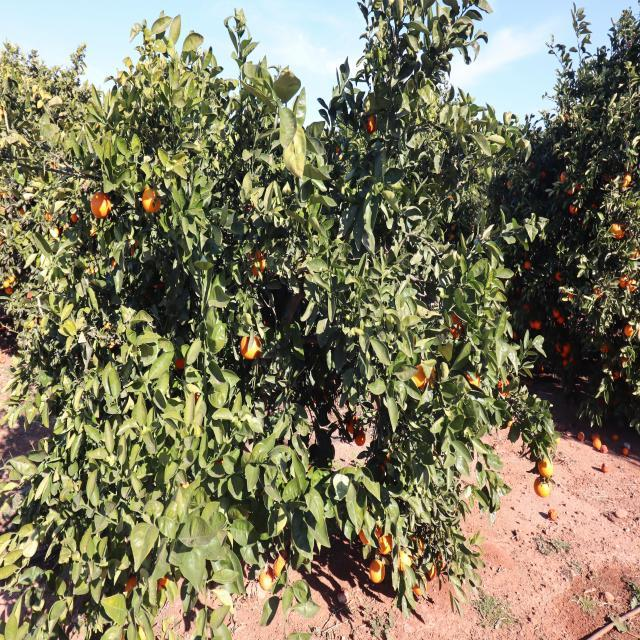Jeruk Sudah Matang: (463, 366, 484, 391), (416, 366, 434, 394), (90, 193, 110, 218), (447, 310, 462, 343), (240, 335, 260, 358), (143, 188, 162, 212), (534, 475, 552, 497), (360, 113, 380, 132), (248, 250, 265, 272), (258, 568, 274, 590), (608, 222, 624, 242), (398, 548, 411, 572), (370, 561, 384, 583), (378, 532, 392, 554), (540, 456, 554, 477), (173, 353, 192, 368), (348, 416, 362, 432), (624, 323, 638, 338), (130, 243, 141, 260), (619, 270, 629, 288), (625, 277, 637, 292), (68, 211, 80, 225), (534, 318, 544, 332), (552, 307, 563, 319), (629, 246, 640, 258), (554, 341, 563, 354), (604, 170, 612, 184), (619, 180, 629, 191), (356, 432, 365, 444), (1, 278, 10, 290), (568, 204, 578, 214), (560, 172, 570, 182), (612, 370, 622, 380), (568, 357, 578, 367), (563, 342, 572, 353), (602, 364, 610, 376), (523, 260, 532, 270), (6, 276, 17, 284), (556, 317, 568, 324), (555, 272, 563, 282), (528, 320, 536, 330), (624, 173, 632, 183), (568, 186, 576, 196), (540, 172, 548, 182), (506, 179, 513, 189), (601, 344, 609, 352), (514, 288, 522, 296), (110, 258, 118, 266), (564, 114, 571, 123), (528, 162, 534, 169), (563, 359, 569, 366), (560, 354, 570, 358), (500, 198, 505, 204)
